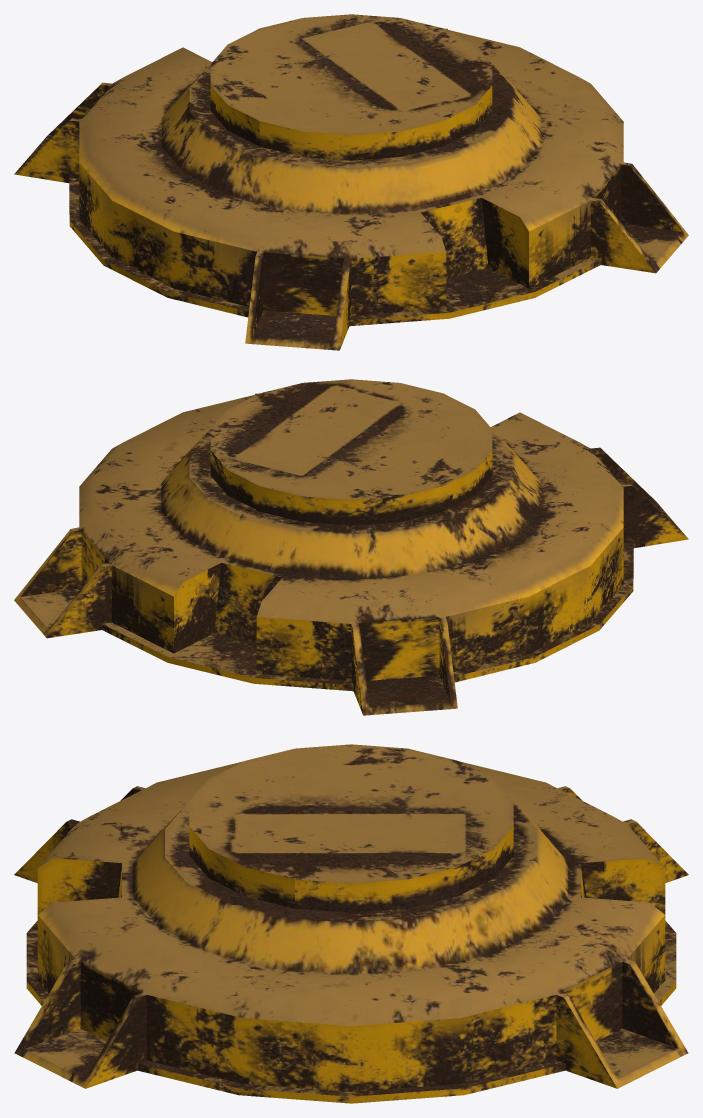
The model's file is industrialbase.dae.
3 renders of one model, top to bottom at view 1: azimuth 30°, elevation 25°; view 2: azimuth 150°, elevation 25°; view 3: azimuth 270°, elevation 25°, orthographic. The views are drawn at different scales.
Parts seen in each view (by area): view 1: Cylinder002; view 2: Cylinder002; view 3: Cylinder002.
Boxes of the visible parts, left/top/right/bottom form: Cylinder002: left=14, top=14, right=688, bottom=350; Cylinder002: left=14, top=379, right=688, bottom=715; Cylinder002: left=14, top=744, right=688, bottom=1103.
Size of the model in its own units: 0.8374 by 0.8567 by 0.2104.
1 material, 1 textured.
